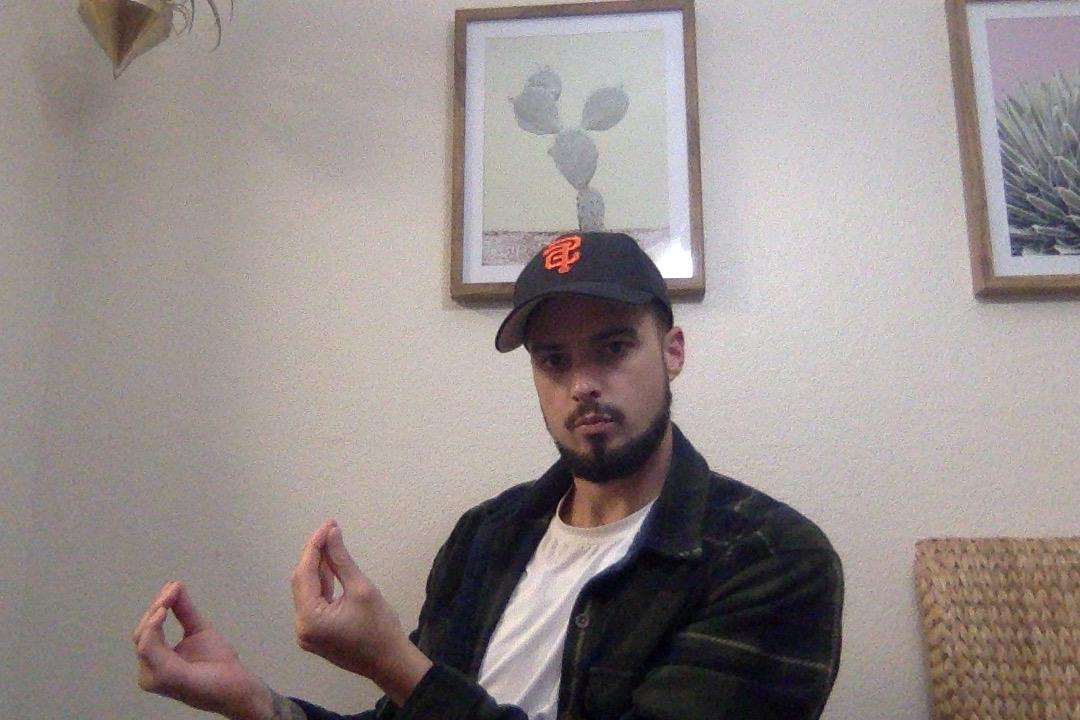Italian-Gesture: (287, 508, 403, 683), (132, 585, 248, 716)
